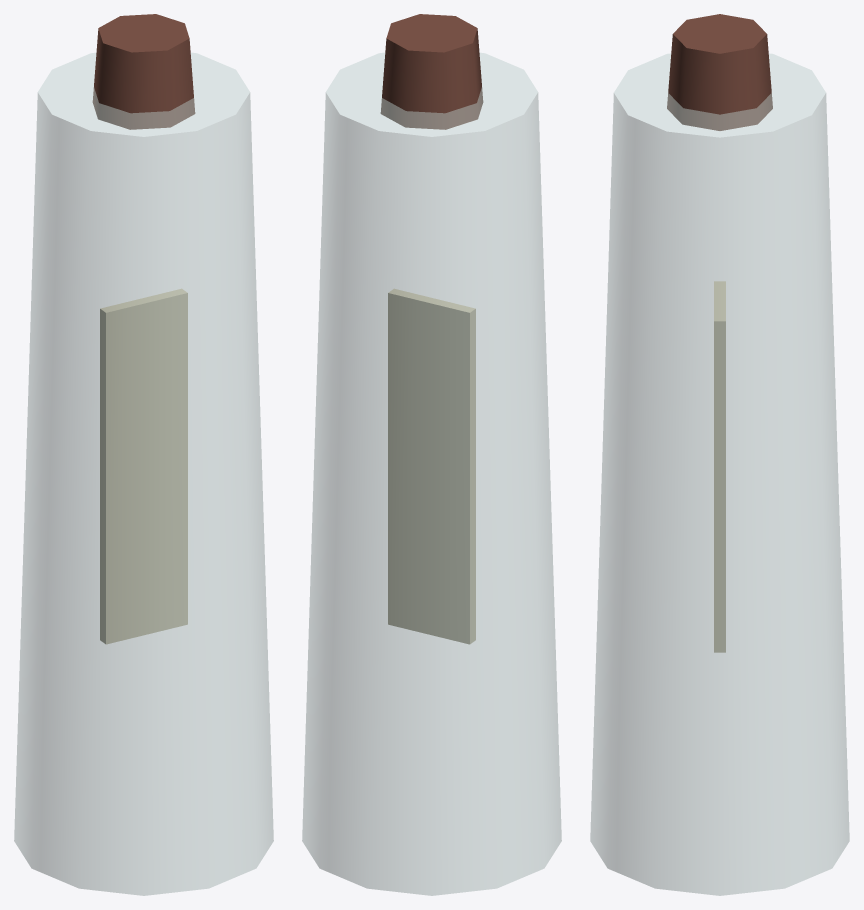
File: floating-bottle.glb
The picture shows the model from 3 angles, left to right: view 1: azimuth 30°, elevation 25°; view 2: azimuth 150°, elevation 25°; view 3: azimuth 270°, elevation 25°; orthographic projection.
Parts seen in each view (by area): view 1: BottleBody, BottleNote, BottleCork; view 2: BottleBody, BottleNote, BottleCork; view 3: BottleBody, BottleCork, BottleNote.
Part boxes in pixels (x1,y1,x2,y2): BottleBody: (14, 52, 273, 895); BottleNote: (100, 288, 187, 644); BottleCork: (92, 14, 195, 129); BottleBody: (302, 52, 561, 895); BottleNote: (388, 288, 475, 644); BottleCork: (380, 14, 483, 129); BottleBody: (590, 53, 849, 895); BottleCork: (667, 14, 772, 130); BottleNote: (714, 281, 725, 652).
Size of the model in its own units: 0.44 by 1.51 by 0.44.
